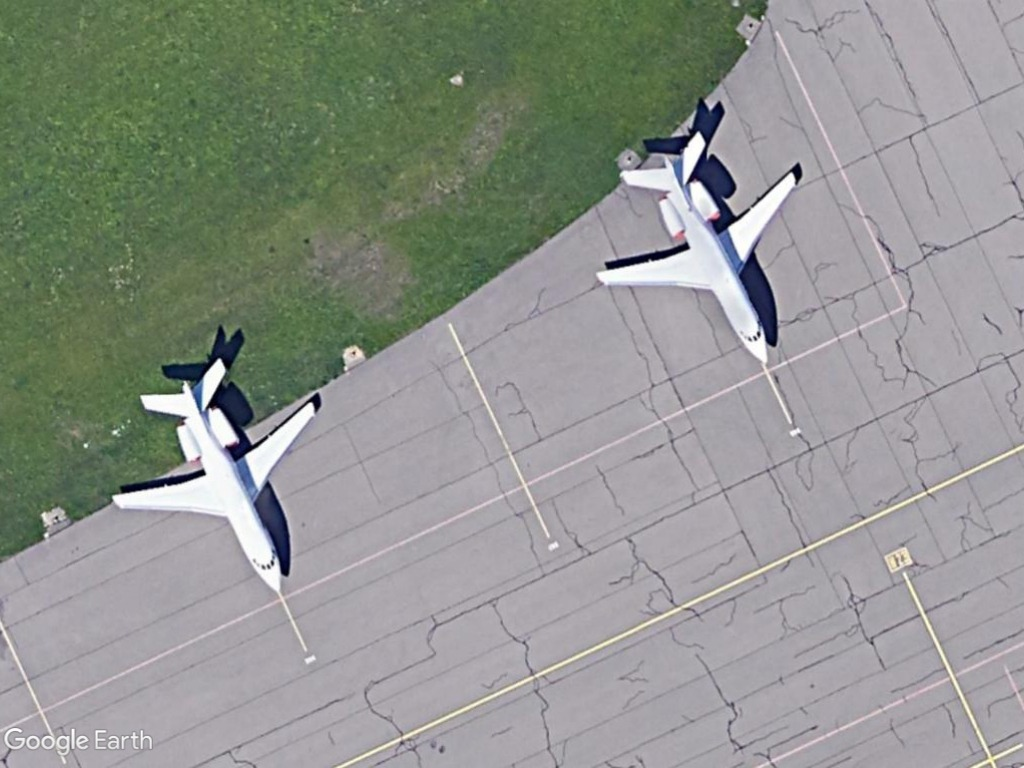chartered: (104, 353, 320, 594), (590, 131, 801, 372)
